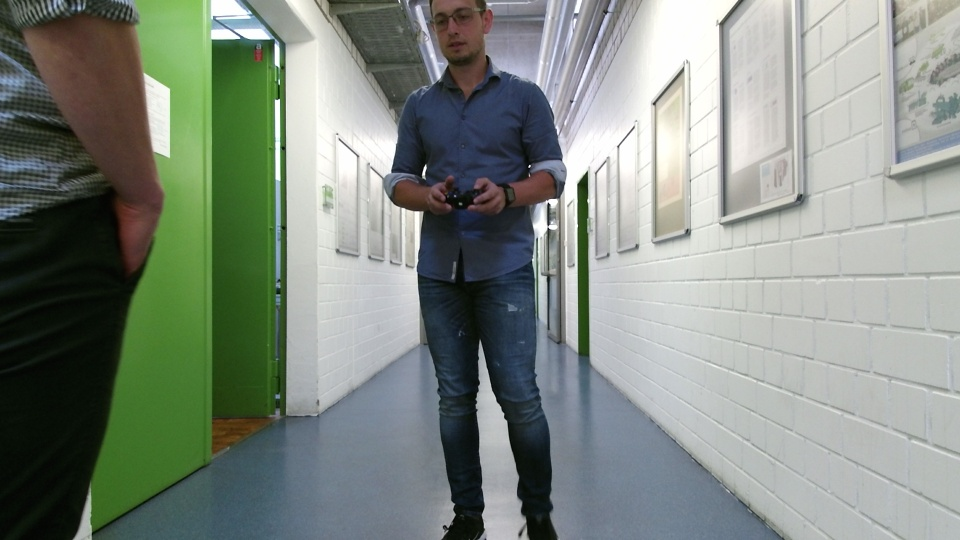Person: (379, 1, 579, 540), (1, 1, 171, 540)
